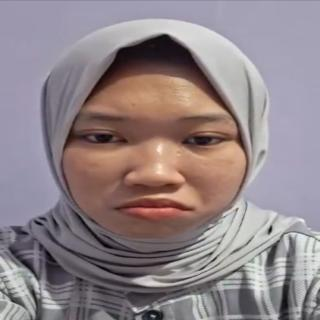Sedih: (57, 54, 261, 242)
